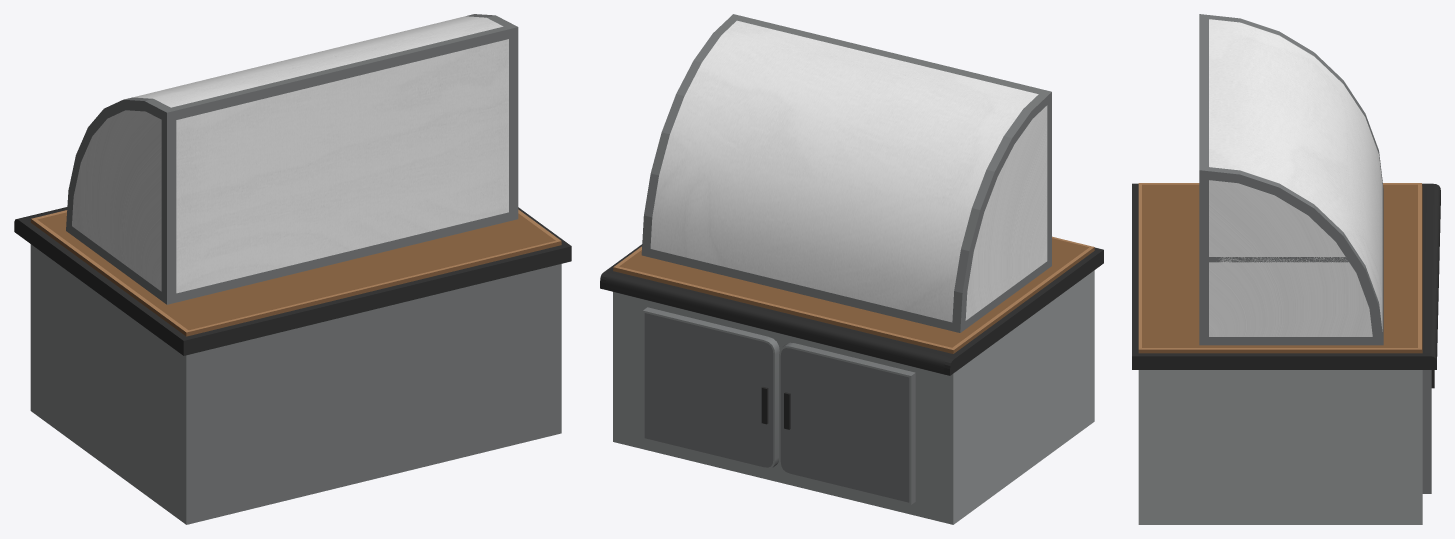
Rendered from Mostrador.FBX.
The picture shows the model from 3 angles, left to right: view 1: azimuth 30°, elevation 25°; view 2: azimuth 150°, elevation 25°; view 3: azimuth 270°, elevation 25°; orthographic projection. The views are drawn at different scales.
Visible parts, largest first — view 1: Mostrador, Top; view 2: Top, Mostrador; view 3: Mostrador, Top.
Part boxes in pixels (x1,y1,x2,y2): Mostrador: (14, 207, 571, 524); Top: (66, 14, 518, 304); Top: (641, 14, 1051, 332); Mostrador: (600, 236, 1103, 524); Mostrador: (1132, 183, 1440, 524); Top: (1199, 14, 1383, 345).
Size of the model in its own units: 199 by 150 by 188.
